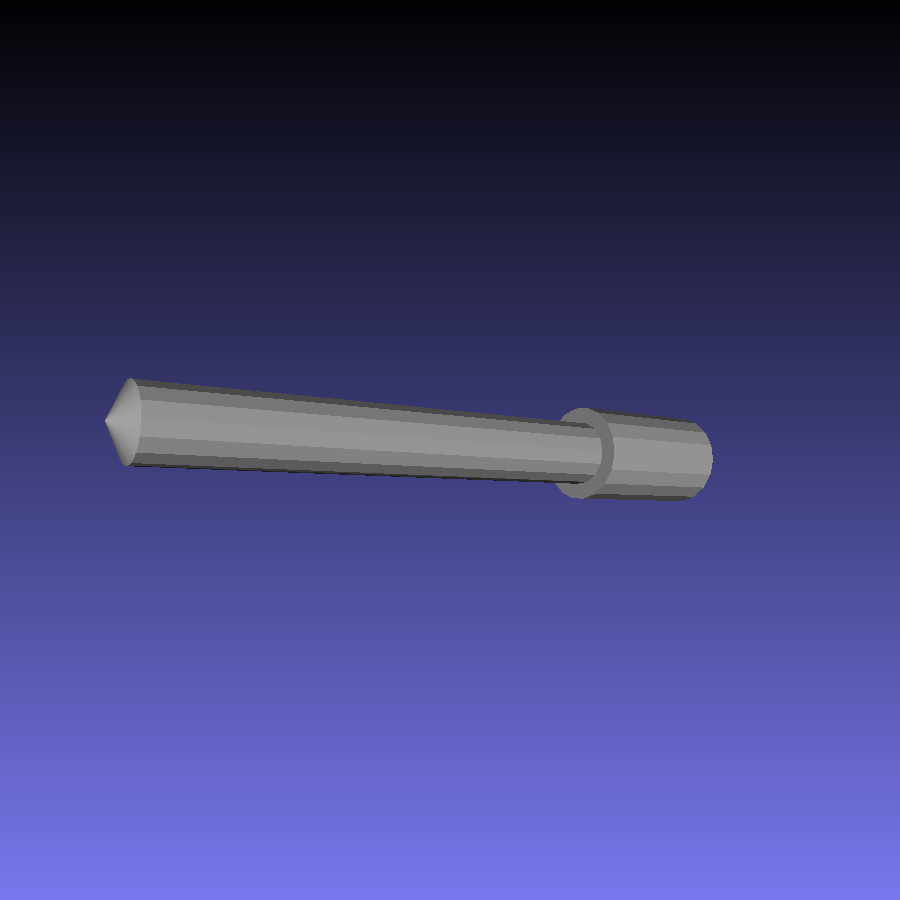cargo_g: (103, 377, 714, 502)
